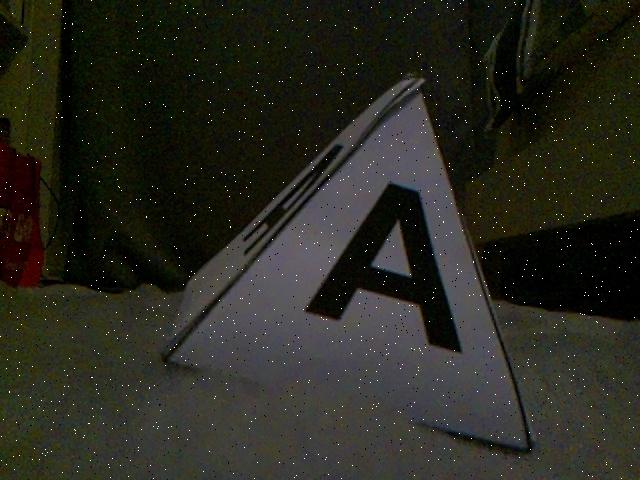A: (166, 72, 535, 452)
